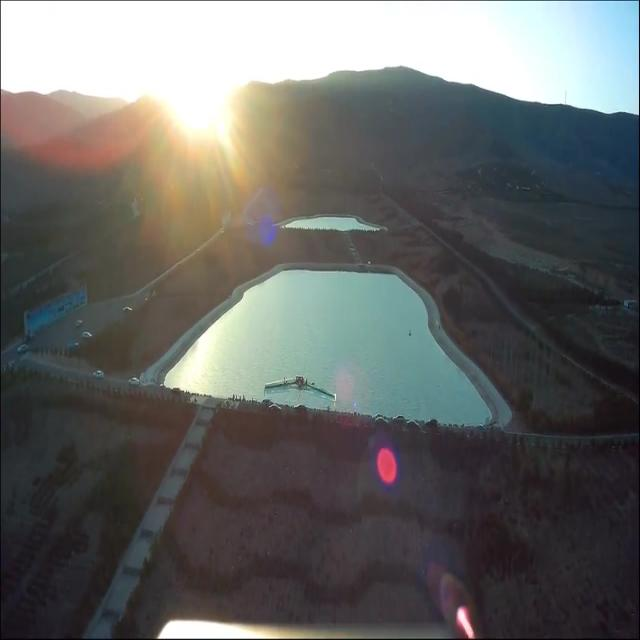iha: (299, 368, 301, 401)
